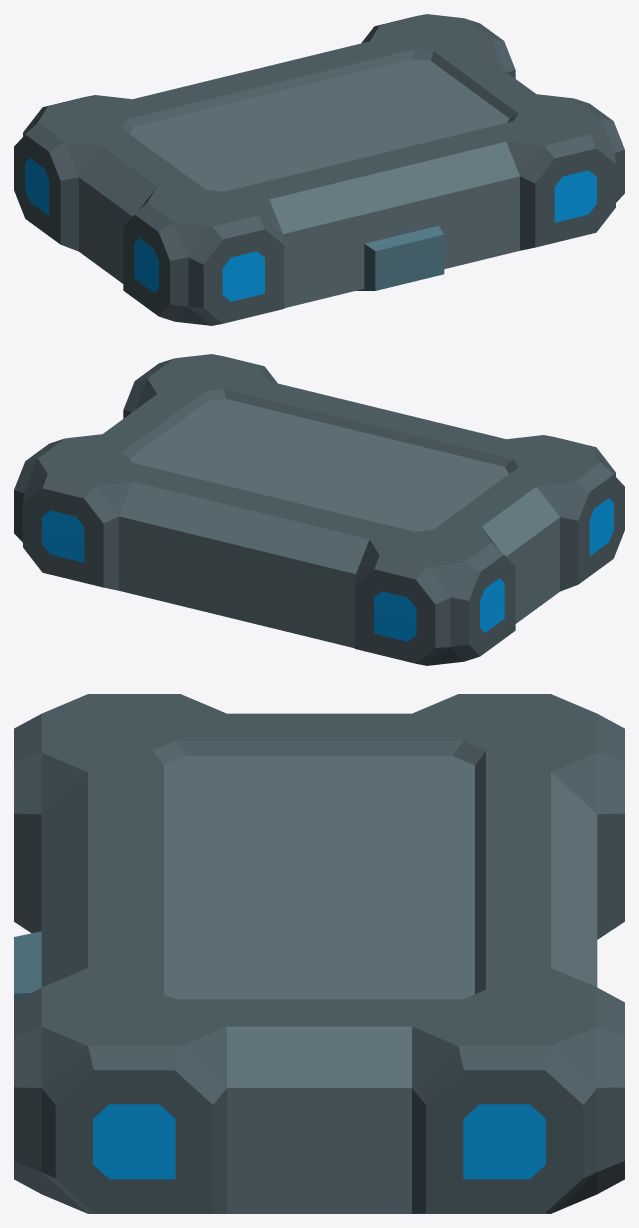
The model's file is Crate_001_cap_001.fbx.
3 views of the same model, one above another, from view 1: azimuth 30°, elevation 25°; view 2: azimuth 150°, elevation 25°; view 3: azimuth 270°, elevation 25° (orthographic). The views are drawn at different scales.
Visible parts, largest first — view 1: Crate_001_cap_001; view 2: Crate_001_cap_001; view 3: Crate_001_cap_001.
Part boxes in pixels (bbox=[...]): Crate_001_cap_001: bbox=[14, 14, 624, 325]; Crate_001_cap_001: bbox=[14, 354, 624, 665]; Crate_001_cap_001: bbox=[14, 694, 624, 1213].
Bounding box in the file's own units: 96 × 66 × 21.93.
